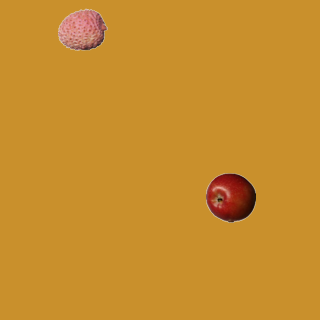Apple Braeburn: (205, 172, 255, 222)
Lychee: (57, 4, 107, 54)
